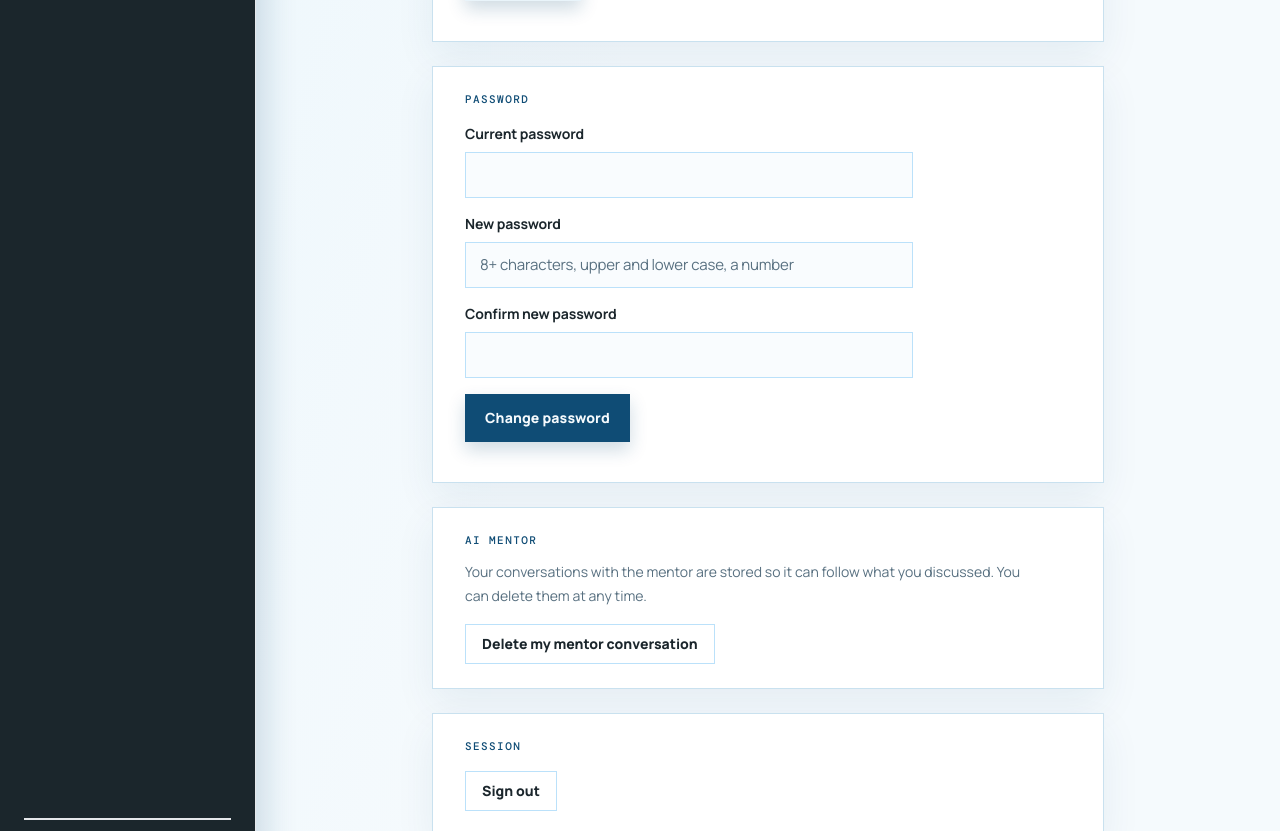
settings page › shows a general error when the server cannot be reached
This screenshot has width=1280, height=831.
(page scrolled)
Step 1. Click the button "Change password" → (547, 418), box [465,394,630,442]
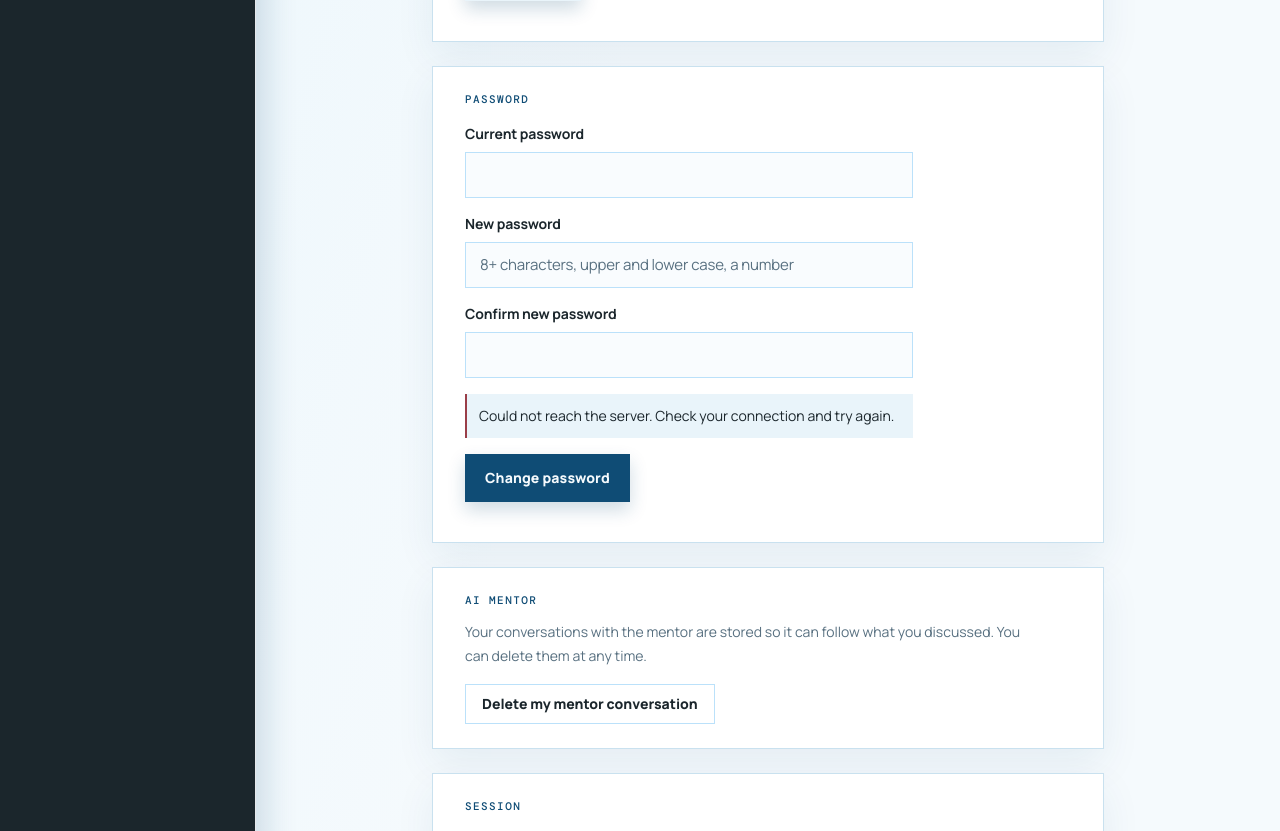
Expected: the message shows "Could not reach the server", [479,406,894,424]
